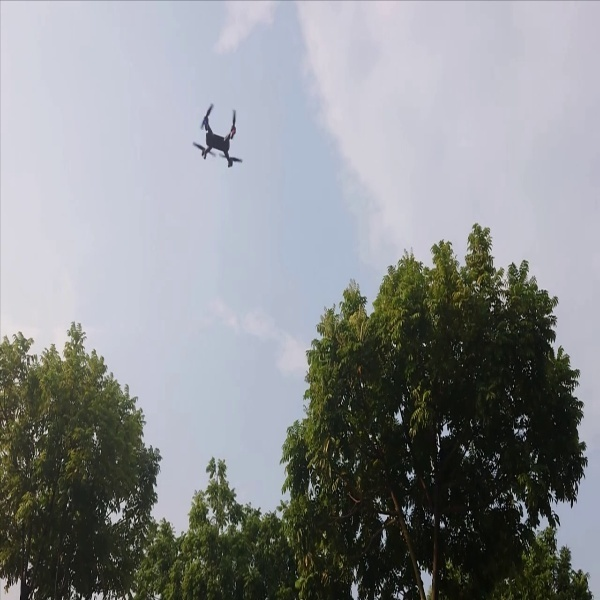drone: (188, 96, 256, 176)
